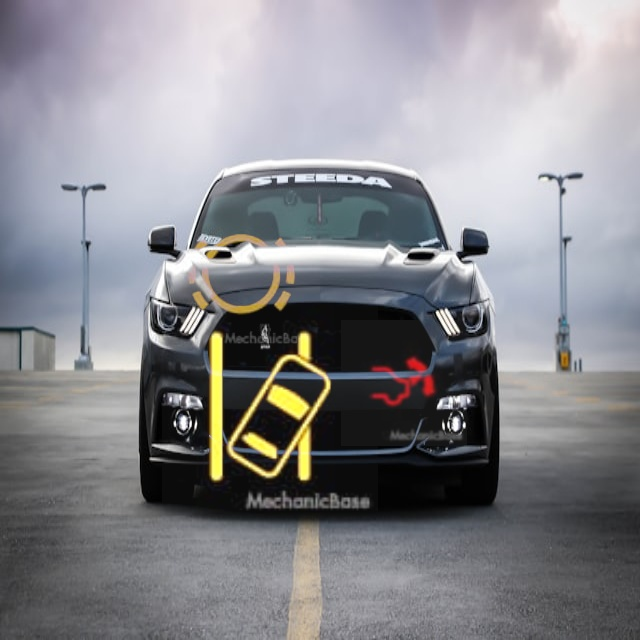symbol: (162, 303, 378, 519), (165, 199, 317, 351), (341, 320, 467, 446)
